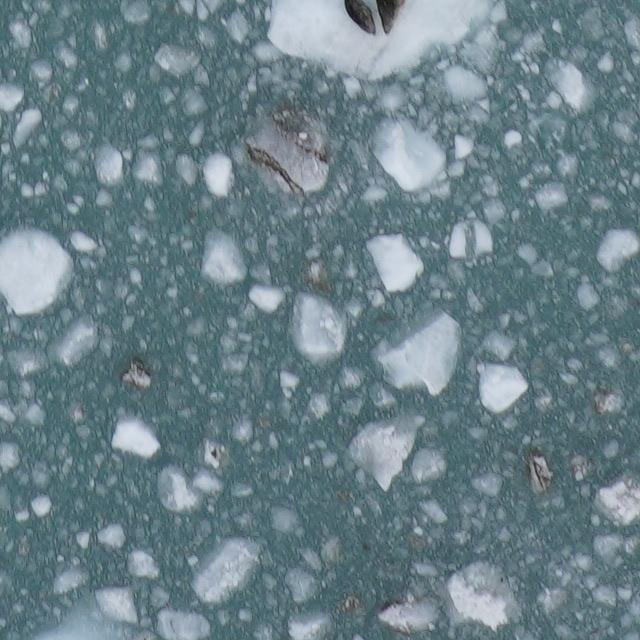seal: (340, 0, 381, 39)
